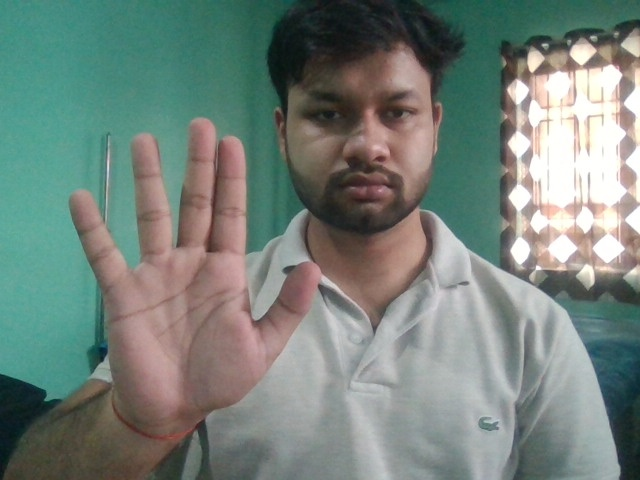Hello: (68, 116, 321, 421)
